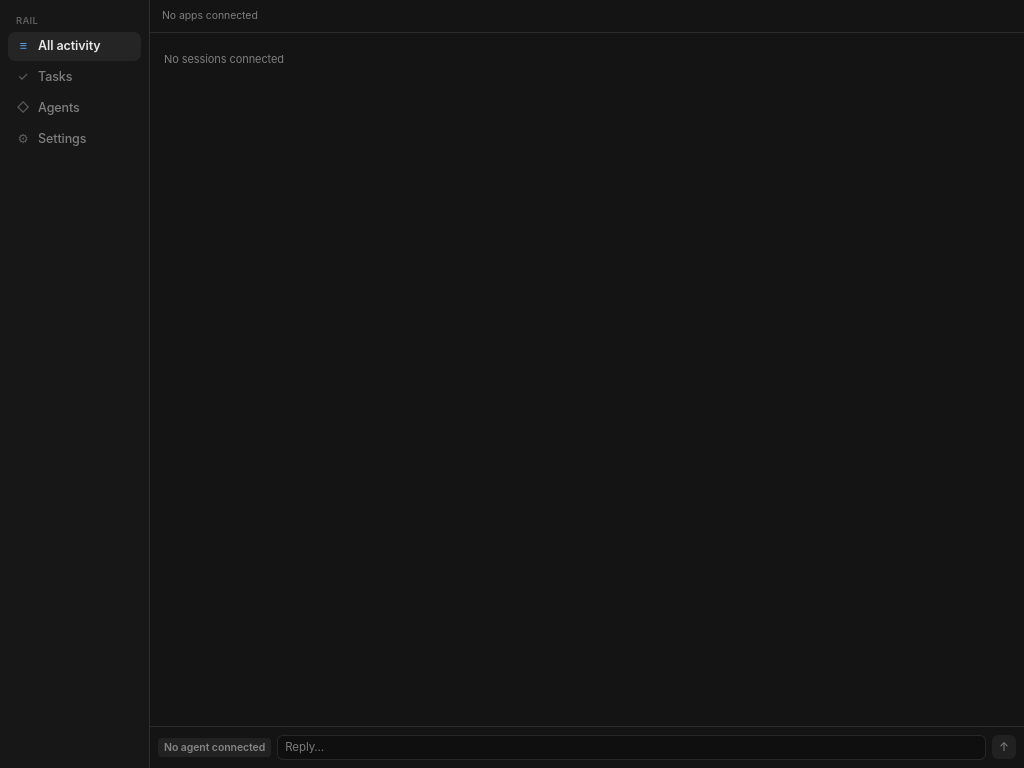
it: RailPanes › collapses the children again when another pane is chosen
Click the button "⚙ Settings" at (74, 139), box [8,124,141,153]
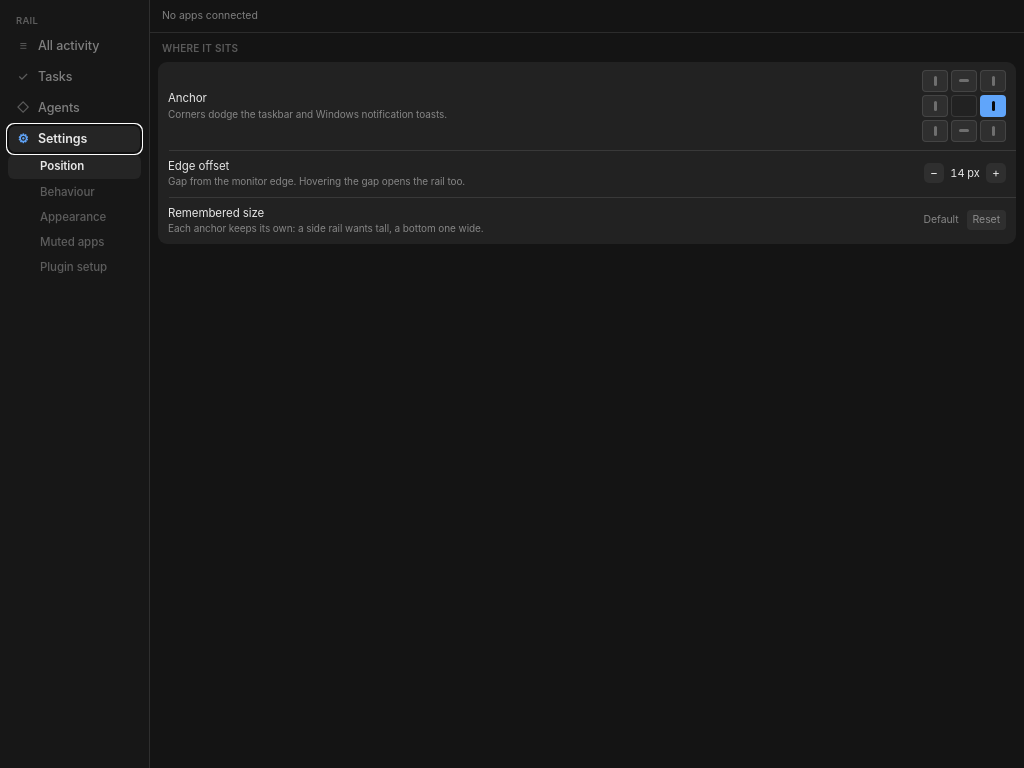
Click the button "✓ Tasks" at (74, 77), box [8,63,141,92]
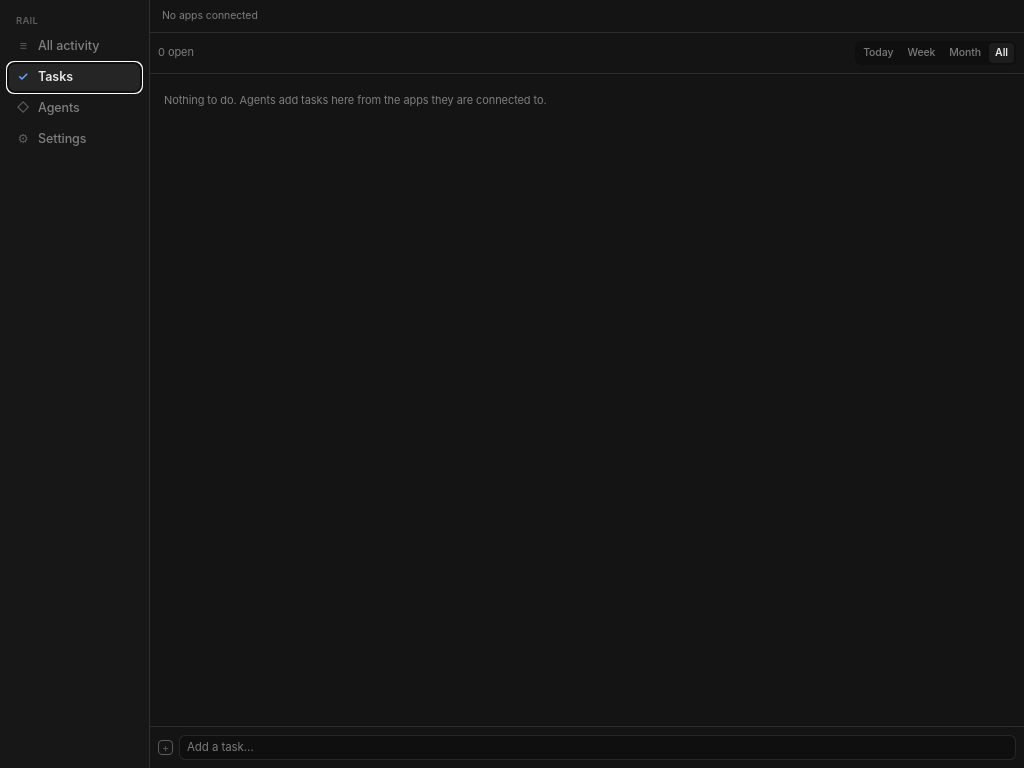
Check: the button "Appearance" is gone
